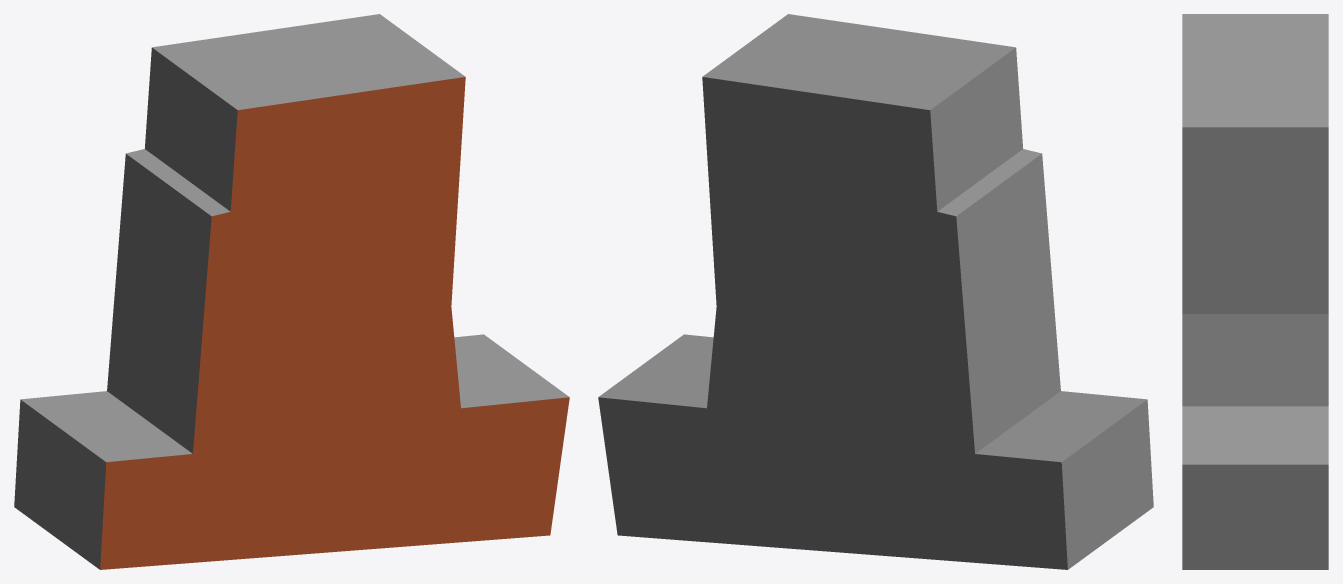
File: construction_1356_assumed_A_Casa_h6m.obj
The picture shows the model from 3 angles, left to right: view 1: azimuth 30°, elevation 25°; view 2: azimuth 150°, elevation 25°; view 3: azimuth 270°, elevation 25°; orthographic projection. The views are drawn at different scales.
Parts seen in each view (by area): view 1: construction_1356_assumed_A_Casa; view 2: construction_1356_assumed_A_Casa; view 3: construction_1356_assumed_A_Casa.
Boxes of the visible parts, box(x1,y1,x2,y2) form: construction_1356_assumed_A_Casa: box(14, 14, 569, 569); construction_1356_assumed_A_Casa: box(598, 14, 1153, 569); construction_1356_assumed_A_Casa: box(1182, 14, 1328, 569).
Bounding box in the file's own units: 18.94 × 19.33 × 6.
